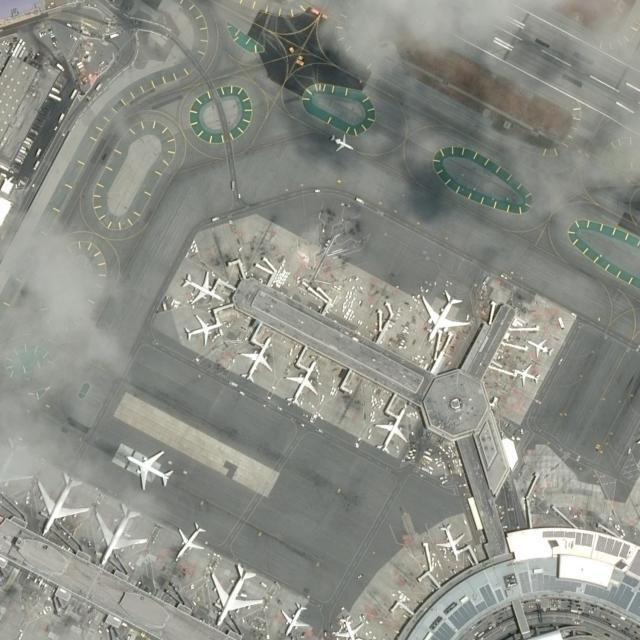Aircraft: (209, 559, 264, 627), (33, 468, 87, 536), (92, 501, 146, 567), (417, 288, 471, 340), (121, 449, 175, 491), (371, 404, 411, 454), (283, 360, 321, 406), (237, 338, 275, 383), (178, 270, 224, 305), (172, 520, 207, 563), (181, 314, 223, 345), (434, 523, 466, 558), (278, 601, 310, 635), (331, 609, 365, 639), (524, 335, 554, 358), (511, 363, 541, 385), (328, 131, 354, 154)
